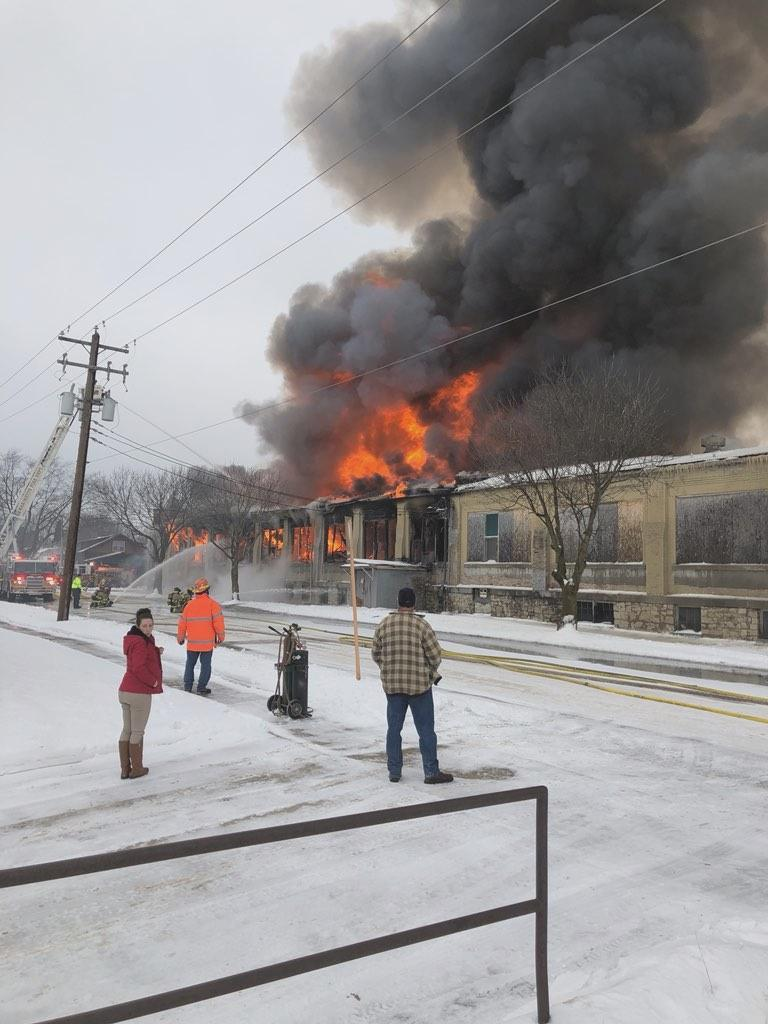fire: (325, 372, 474, 494), (324, 525, 347, 552), (262, 528, 287, 552), (183, 526, 209, 544)
